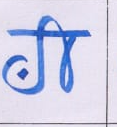i_matra: (44, 15, 84, 93)
